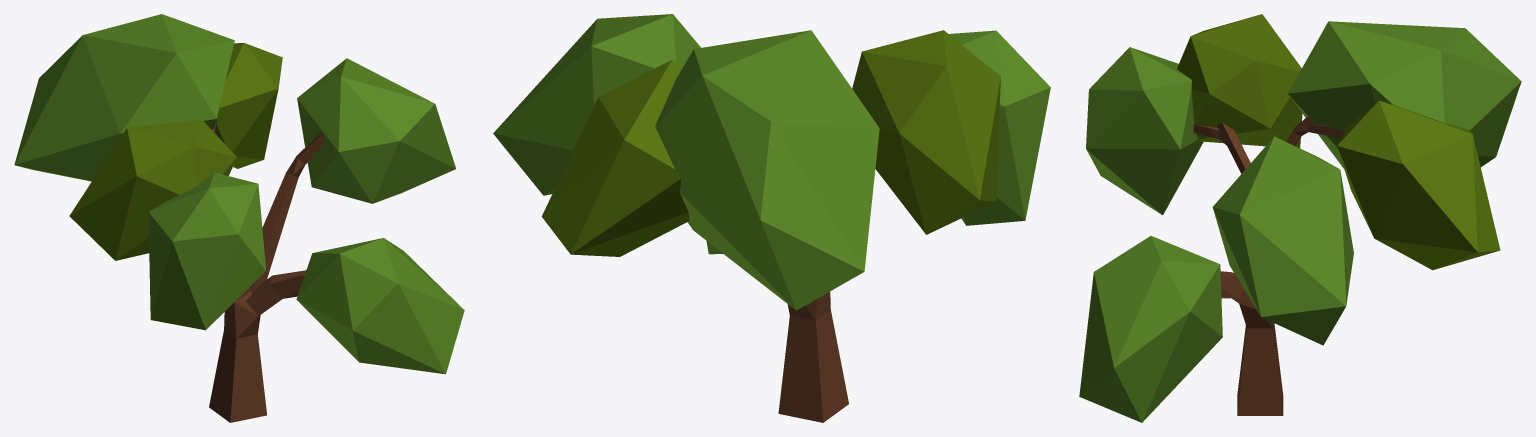
Rendered from Tree2.fbx.
3 views of the same model, side by side, from view 1: azimuth 30°, elevation 25°; view 2: azimuth 150°, elevation 25°; view 3: azimuth 270°, elevation 25° (orthographic). The views are drawn at different scales.
Parts seen in each view (by area): view 1: Cube; view 2: Cube; view 3: Cube.
Part boxes in pixels (<box>): Cube: <box>14,14,464,422</box>; Cube: <box>493,14,1050,422</box>; Cube: <box>1079,14,1521,422</box>.
Size of the model in its own units: 1297 by 1128 by 1225.
